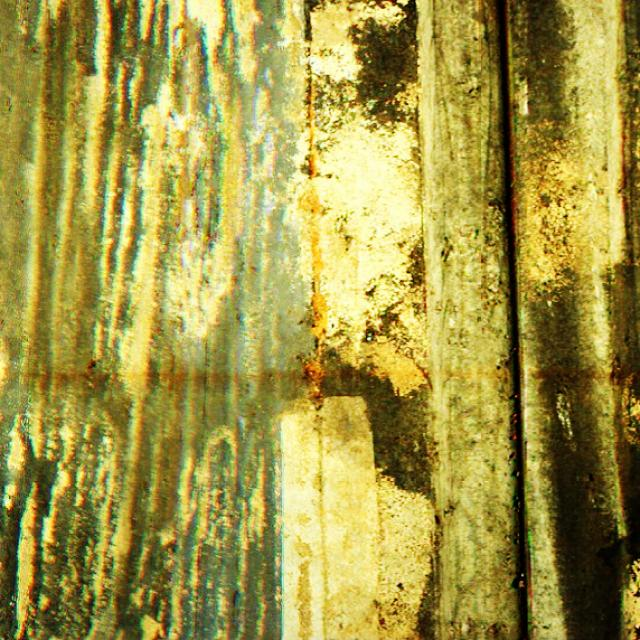Corrosion: (308, 290, 329, 360), (304, 361, 326, 407), (306, 84, 316, 181), (310, 226, 325, 284), (300, 189, 320, 218)
